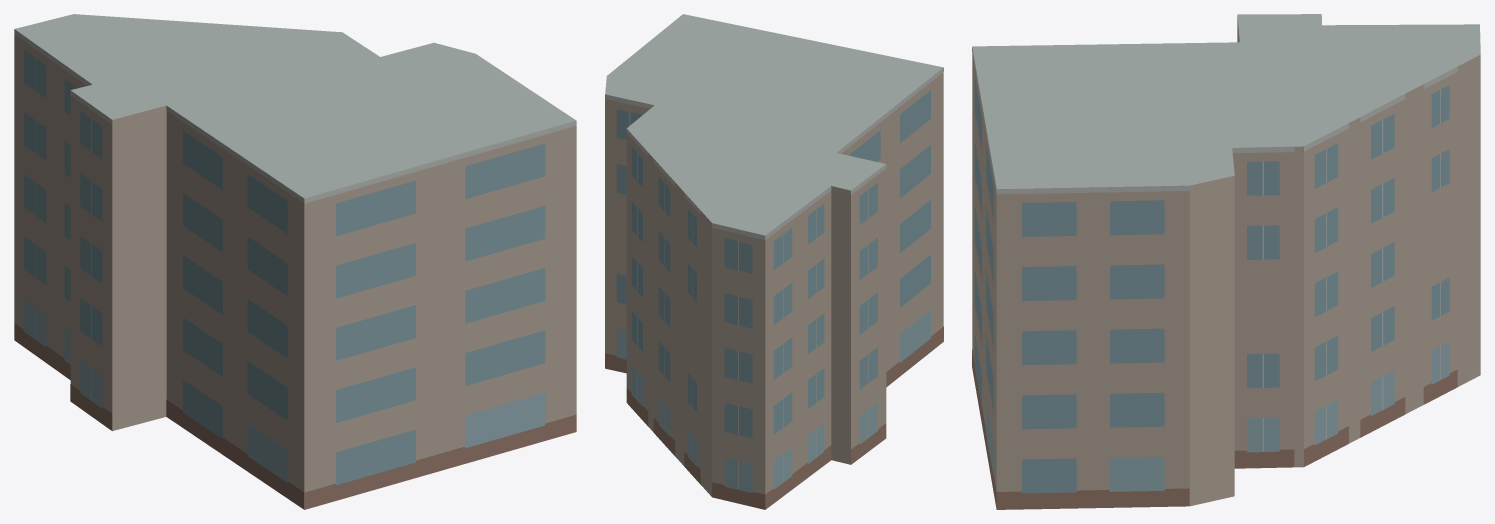
Rendered from survey-upis-32637395.glb.
3 renders of one model, left to right at view 1: azimuth 30°, elevation 25°; view 2: azimuth 150°, elevation 25°; view 3: azimuth 270°, elevation 25°, orthographic. The views are drawn at different scales.
Visible parts, largest first — view 1: survey-upis-32637395.tmp; view 2: survey-upis-32637395.tmp; view 3: survey-upis-32637395.tmp.
Boxes of the visible parts, x1,y1,x2,y2 form: survey-upis-32637395.tmp: (14, 14, 576, 509); survey-upis-32637395.tmp: (605, 14, 943, 509); survey-upis-32637395.tmp: (972, 14, 1480, 509).
Bounding box in the file's own units: 17.23 × 14.7 × 21.14.
